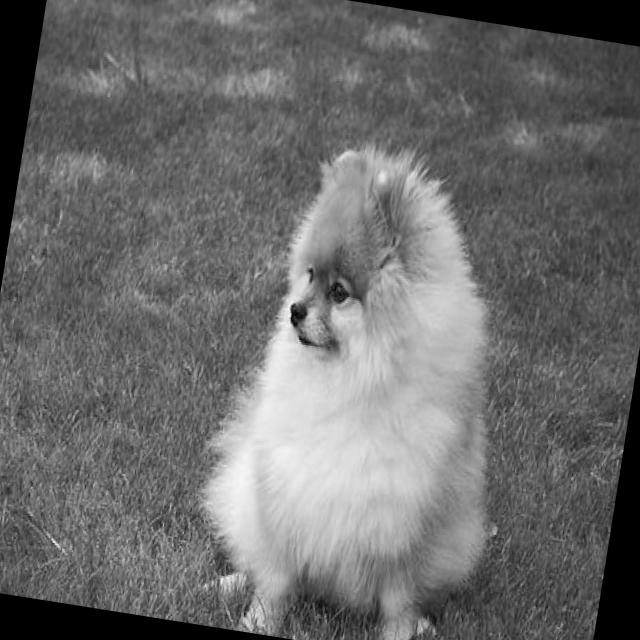sitting: (172, 120, 552, 640)
